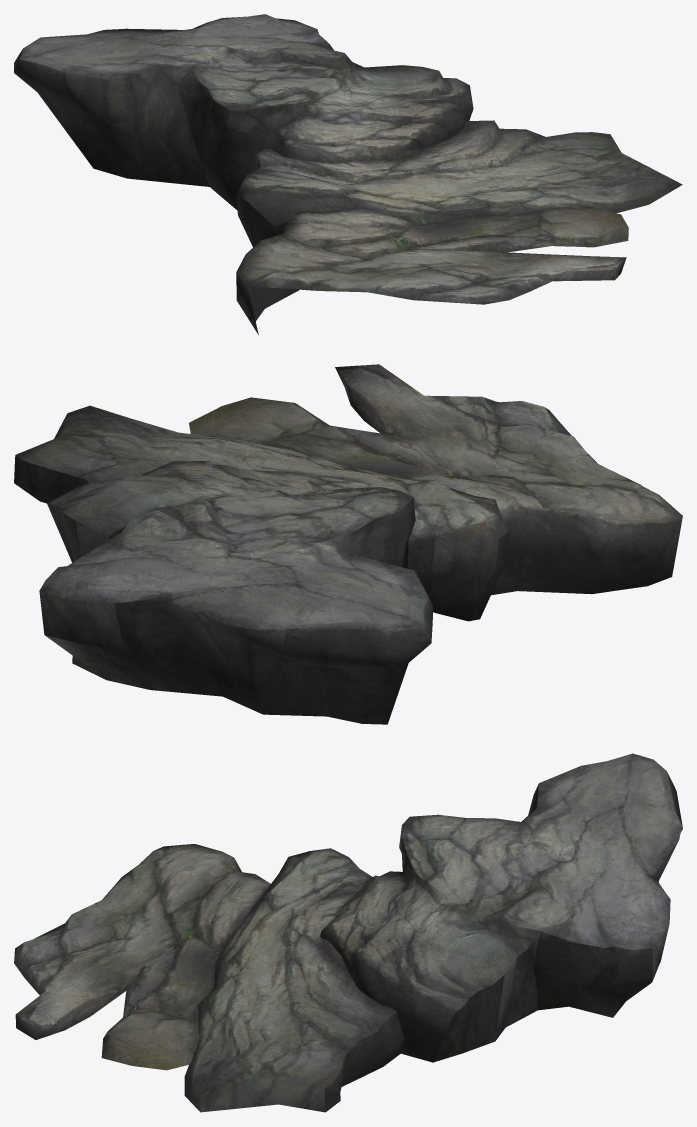
Rendered from gxy_rock01.FBX.
The picture shows the model from 3 angles, top to bottom: view 1: azimuth 30°, elevation 25°; view 2: azimuth 150°, elevation 25°; view 3: azimuth 270°, elevation 25°; orthographic projection. The views are drawn at different scales.
Visible parts, largest first — view 1: gxy_rock001, gxy_rock002; view 2: gxy_rock001, gxy_rock002; view 3: gxy_rock001, gxy_rock002.
Boxes of the visible parts, x1,y1,x2,y2 form: gxy_rock001: (19, 23, 628, 334); gxy_rock002: (14, 14, 682, 247); gxy_rock001: (14, 364, 682, 724); gxy_rock002: (16, 405, 509, 669); gxy_rock001: (14, 753, 682, 1111); gxy_rock002: (184, 772, 682, 1112).
Bounding box in the file's own units: 1775 × 469 × 1967.
